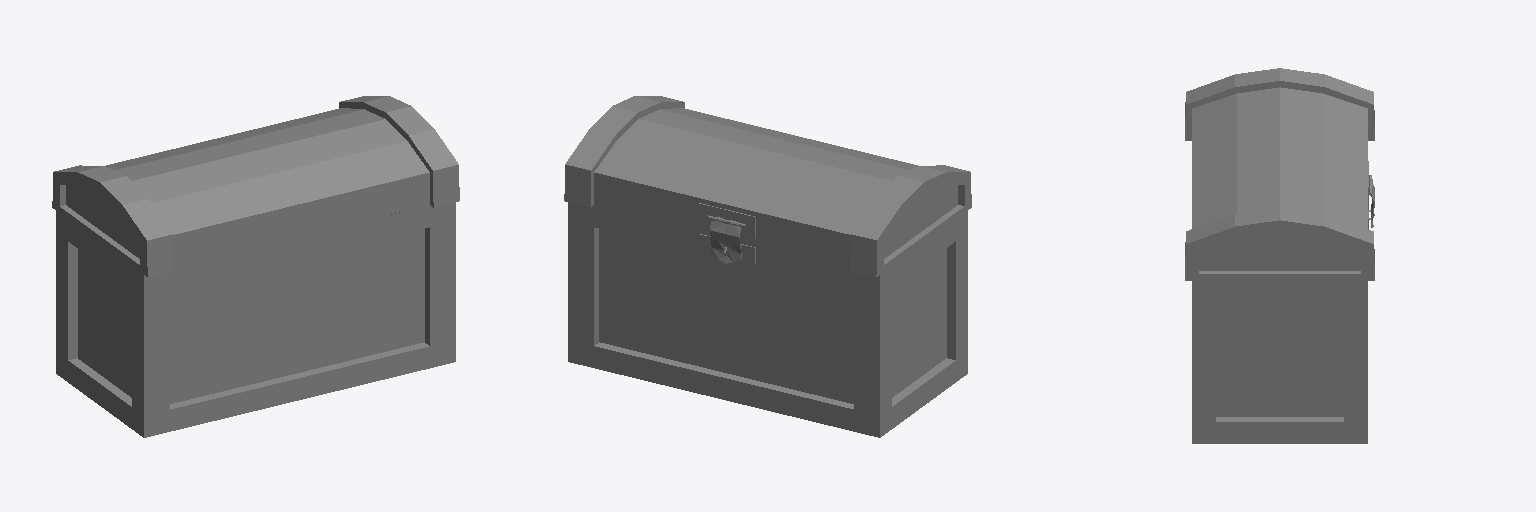
Rendered from chest.obj.
The picture shows the model from 3 angles: view 1: azimuth 30°, elevation 25°; view 2: azimuth 150°, elevation 25°; view 3: azimuth 270°, elevation 25°; orthographic projection.
Visible parts, largest first — view 1: Chest; view 2: Chest; view 3: Chest.
Boxes of the visible parts, box(x1,y1,x2,y2) form: Chest: box(52, 96, 459, 437); Chest: box(564, 96, 971, 437); Chest: box(1185, 68, 1374, 443).
Bounding box in the file's own units: 1.2 × 0.8217 × 0.6356.